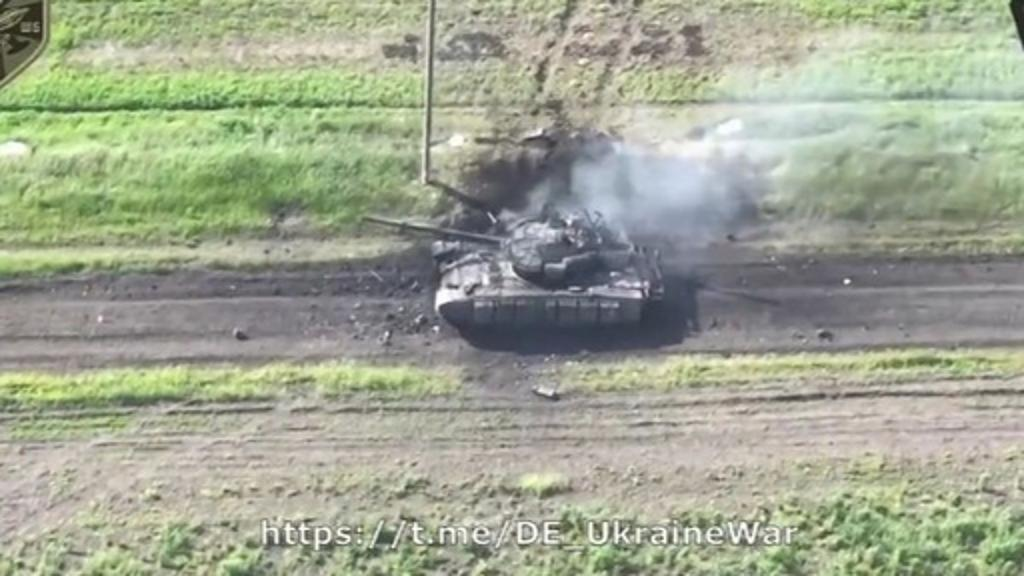TANK: (350, 196, 666, 342)
